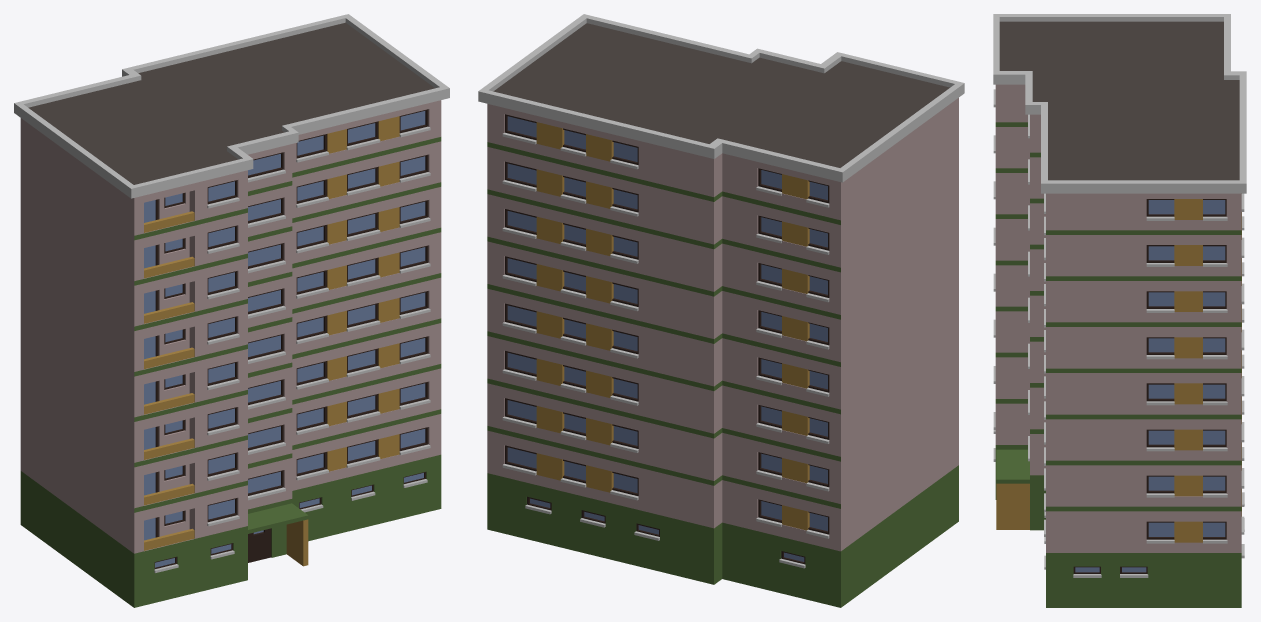
File: ApartmentBuilding_12.fbx
The picture shows the model from 3 angles, left to right: view 1: azimuth 30°, elevation 25°; view 2: azimuth 150°, elevation 25°; view 3: azimuth 270°, elevation 25°; orthographic projection. The views are drawn at different scales.
Visible parts, largest first — view 1: ApartmentBuilding_12; view 2: ApartmentBuilding_12; view 3: ApartmentBuilding_12.
Part boxes in pixels (box(x1,y1,x2,y2)): ApartmentBuilding_12: box(14, 14, 449, 607); ApartmentBuilding_12: box(478, 14, 964, 607); ApartmentBuilding_12: box(993, 14, 1246, 607).
Bounding box in the file's own units: 24.97 × 29.36 × 15.78.
